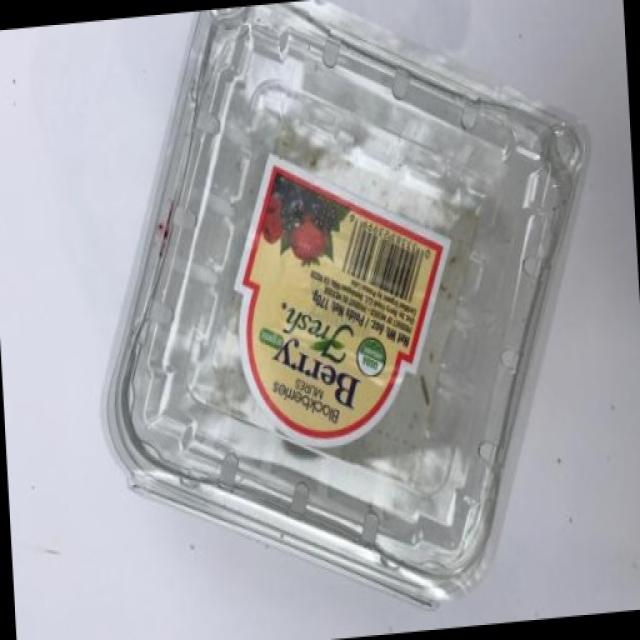plastico: (125, 4, 597, 621)
